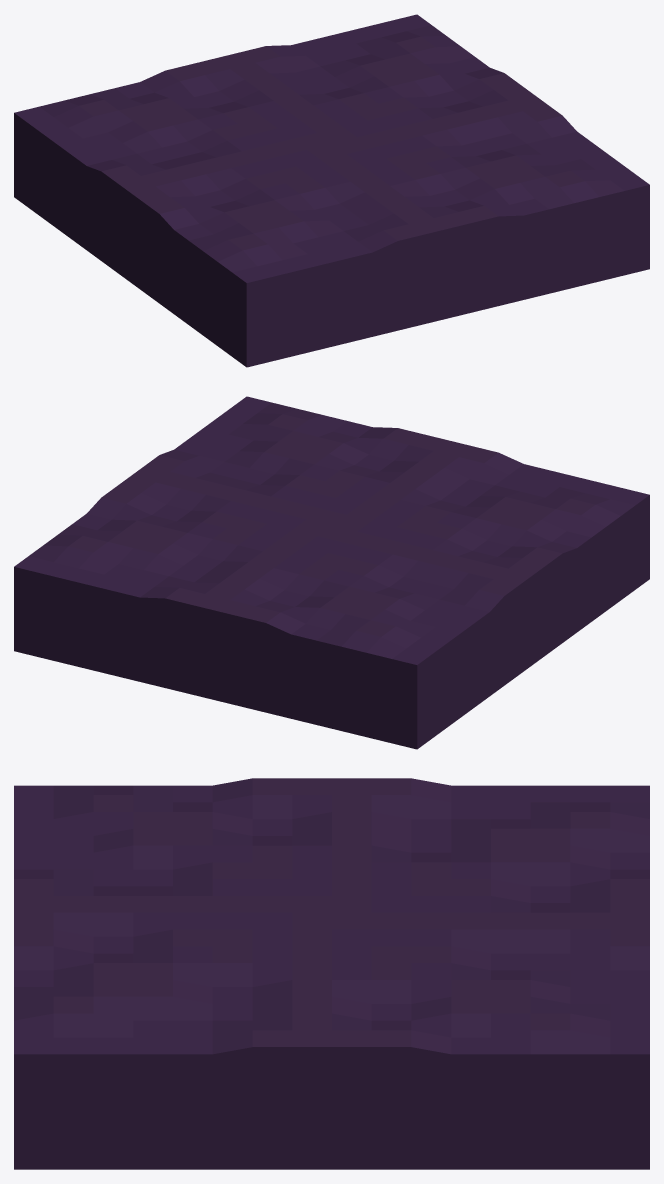
File: map_wall.fbx
3 views of the same model, one above another, from view 1: azimuth 30°, elevation 25°; view 2: azimuth 150°, elevation 25°; view 3: azimuth 270°, elevation 25° (orthographic). The views are drawn at different scales.
Parts seen in each view (by area): view 1: Cube; view 2: Cube; view 3: Cube.
Boxes of the visible parts, x1,y1,x2,y2 form: Cube: (14,14,649,367); Cube: (14,396,649,749); Cube: (14,778,649,1169).
Size of the model in its own units: 2000 by 425 by 2000.
